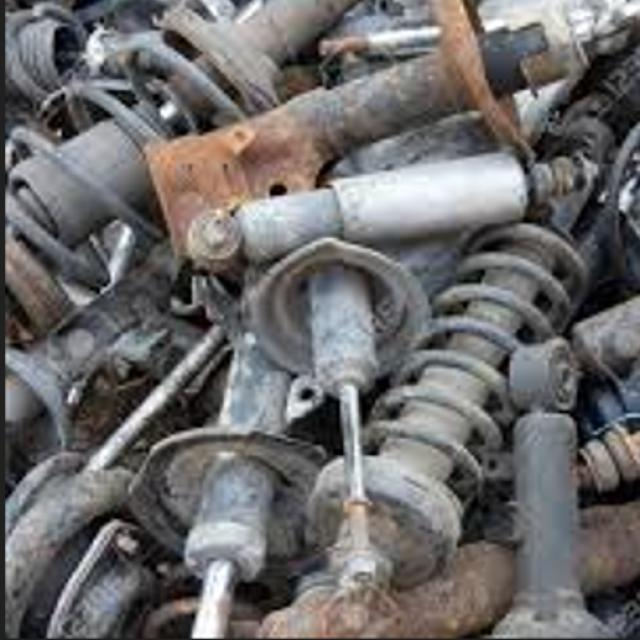shock absorber: (304, 117, 615, 587), (186, 152, 603, 271)
